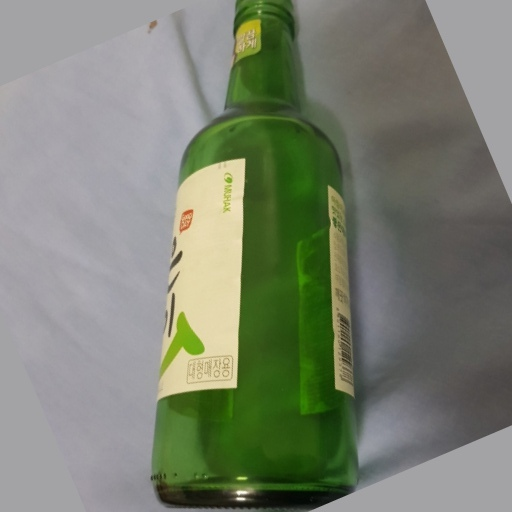Glass_0: (155, 1, 360, 512)
